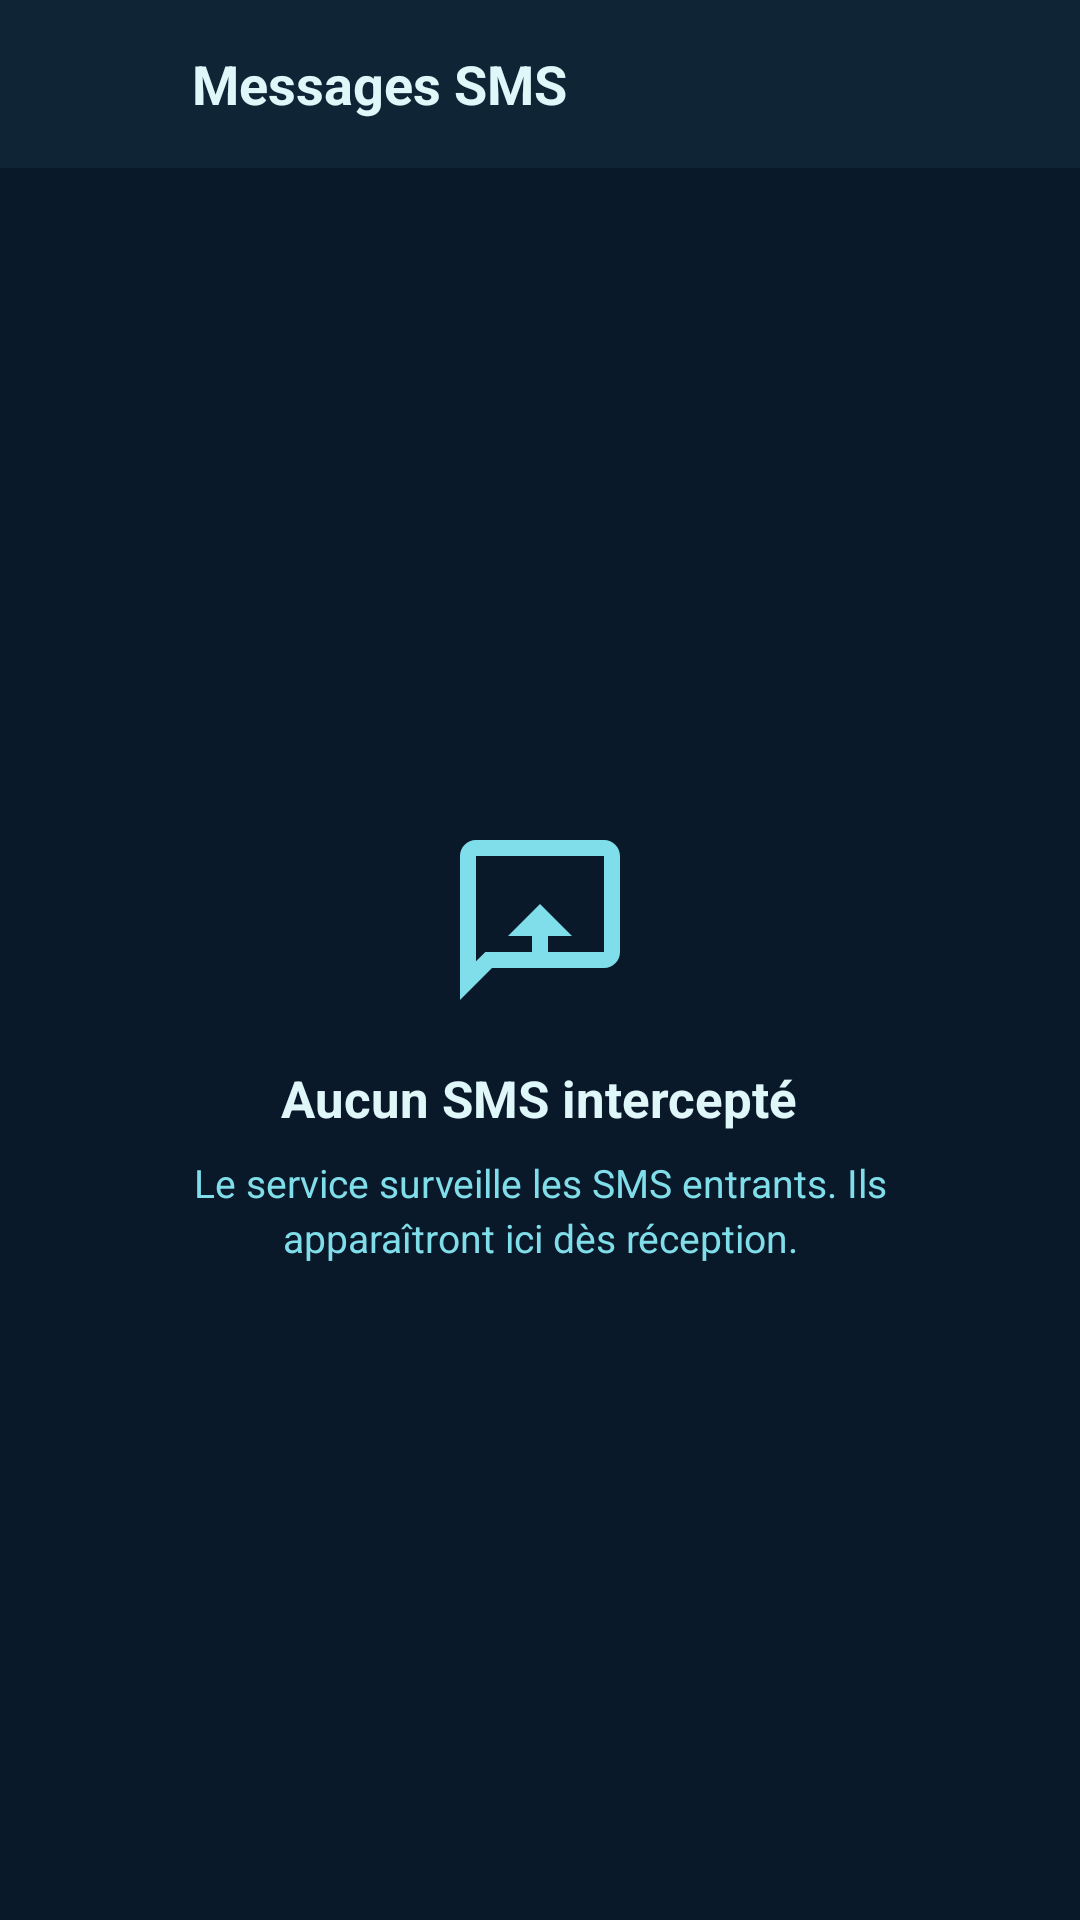

Icon bounding boxes for this 1080*1920 phone screenshot, format (x1, y1, x2, y2):
messaging: (460, 840, 620, 1000)
